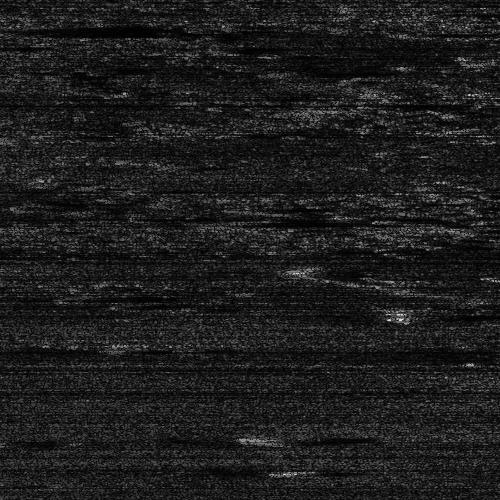rock: (215, 433, 298, 442), (176, 218, 239, 227), (0, 24, 38, 37), (448, 123, 500, 132), (246, 69, 299, 74), (258, 467, 299, 472)
shadow: (0, 24, 205, 37), (208, 218, 349, 227), (257, 433, 340, 442), (273, 69, 360, 74), (279, 467, 322, 472), (485, 123, 500, 132)
